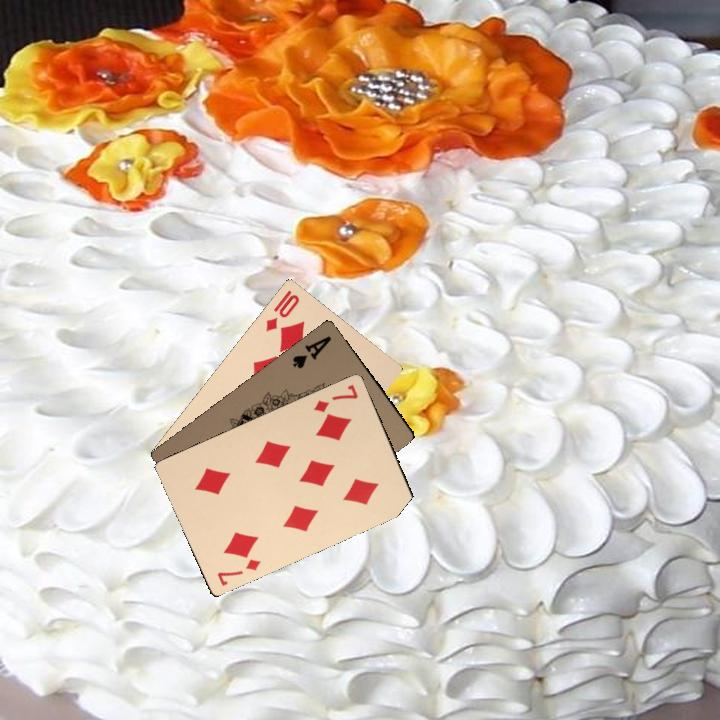10d: (262, 286, 302, 334)
7d: (310, 380, 360, 415), (213, 555, 263, 588)
As: (288, 331, 334, 371)
